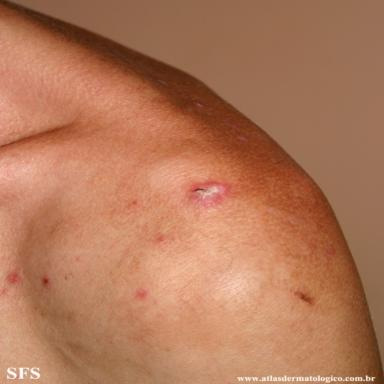Lupus-Erythematosus-Chronicus-Discoides: (192, 182, 228, 205)
